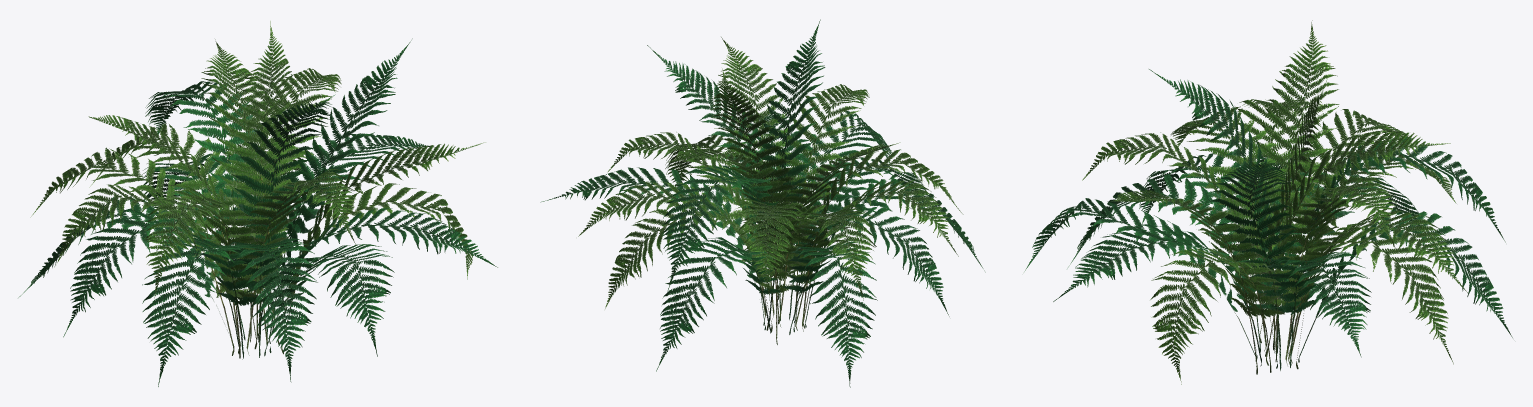
The picture shows the model from 3 angles, left to right: view 1: azimuth 30°, elevation 25°; view 2: azimuth 150°, elevation 25°; view 3: azimuth 270°, elevation 25°; orthographic projection. The views are drawn at different scales.
Parts seen in each view (by area): view 1: Leafs; view 2: Leafs; view 3: Leafs.
Part boxes in pixels (left/top/right/bottom): Leafs: left=18, top=21, right=497, bottom=386; Leafs: left=540, top=19, right=985, bottom=387; Leafs: left=1024, top=20, right=1512, bottom=384.
Bounding box in the file's own units: 1.8 × 1.25 × 1.75.
1 material, 1 textured.
